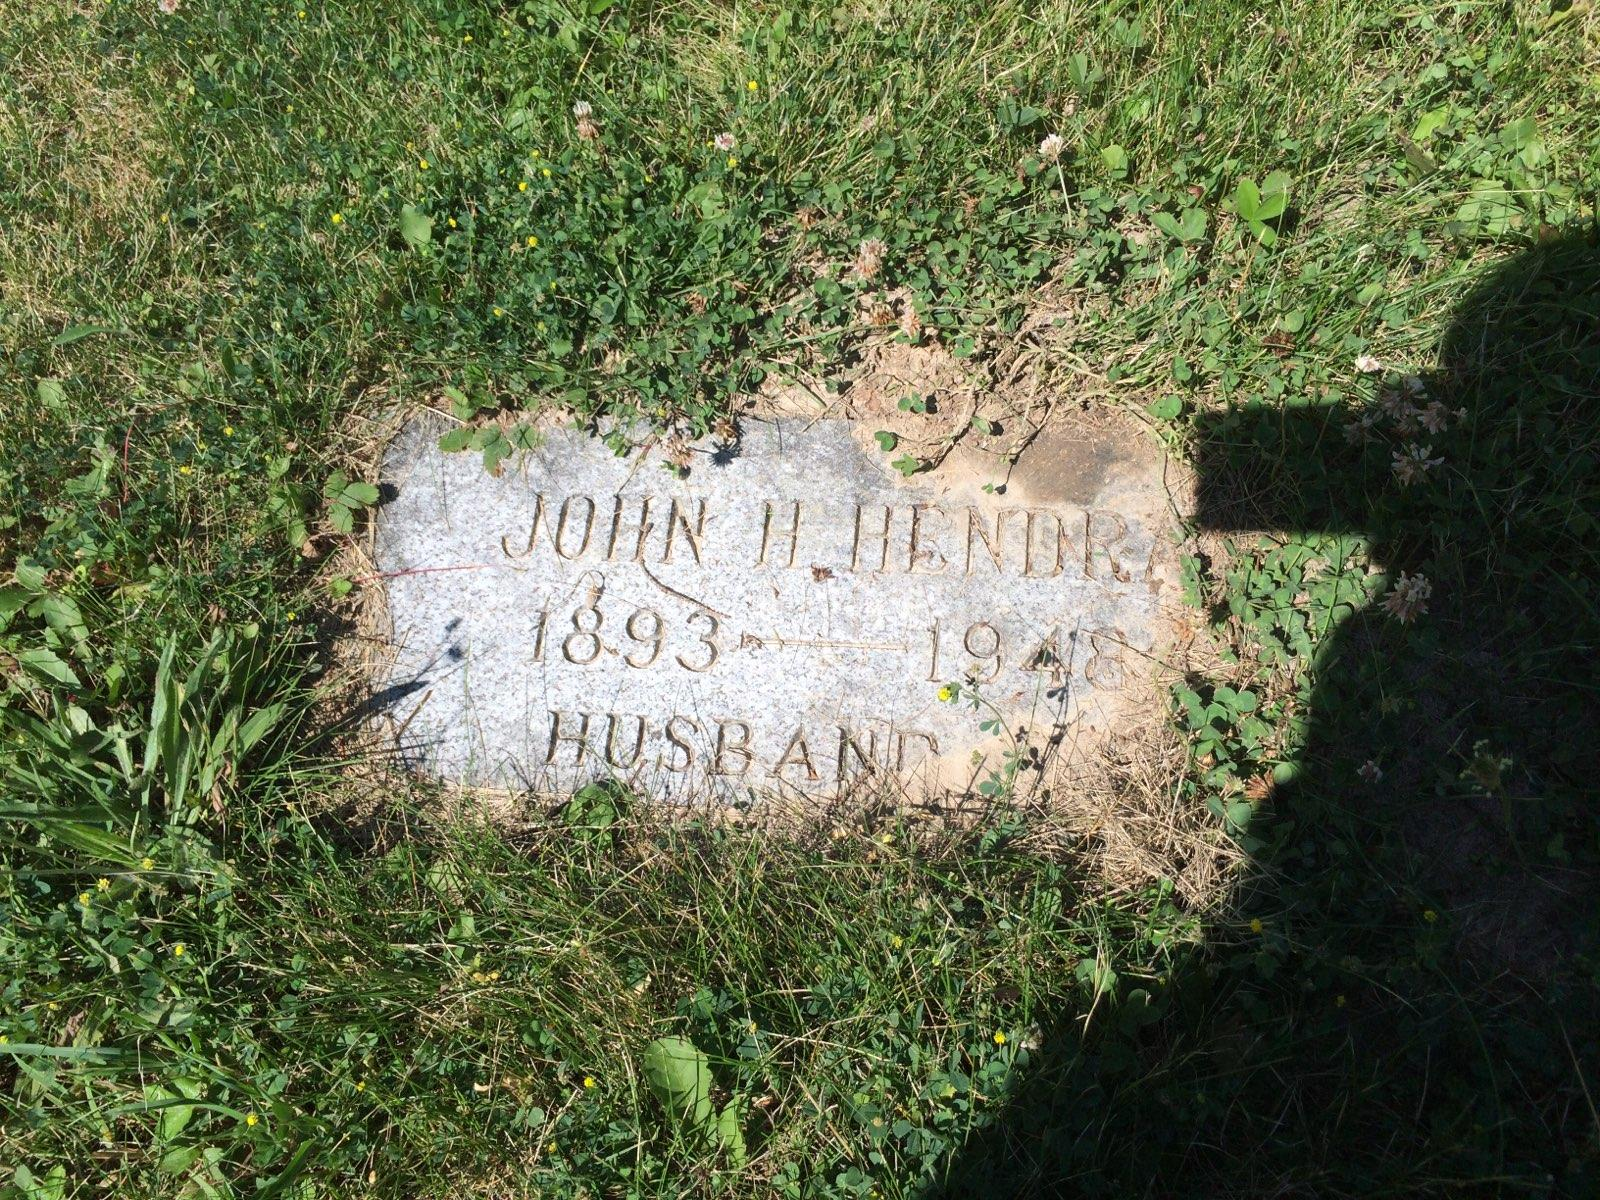flat: (336, 308, 1266, 886)
